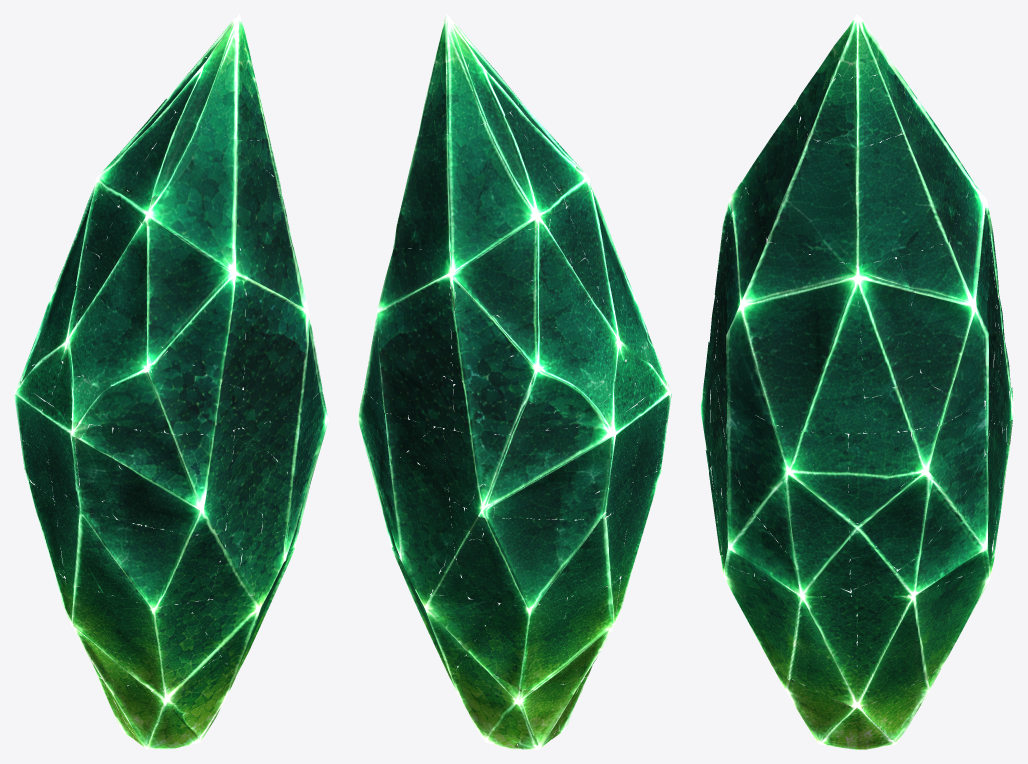
The model's file is green_low_poly_gem.glb.
The picture shows the model from 3 angles, left to right: view 1: azimuth 30°, elevation 25°; view 2: azimuth 150°, elevation 25°; view 3: azimuth 270°, elevation 25°; orthographic projection. The views are drawn at different scales.
Visible parts, largest first — view 1: tripo_node_be9f4fbb-13f9-4515-9f72-f04fb5b830a1; view 2: tripo_node_be9f4fbb-13f9-4515-9f72-f04fb5b830a1; view 3: tripo_node_be9f4fbb-13f9-4515-9f72-f04fb5b830a1.
Boxes of the visible parts, x1=… form: tripo_node_be9f4fbb-13f9-4515-9f72-f04fb5b830a1: x1=14, y1=14, x2=328, y2=749; tripo_node_be9f4fbb-13f9-4515-9f72-f04fb5b830a1: x1=357, y1=14, x2=671, y2=749; tripo_node_be9f4fbb-13f9-4515-9f72-f04fb5b830a1: x1=700, y1=14, x2=1013, y2=749.
Size of the model in its own units: 0.3764 by 0.9813 by 0.3652.
1 material, 1 textured.
